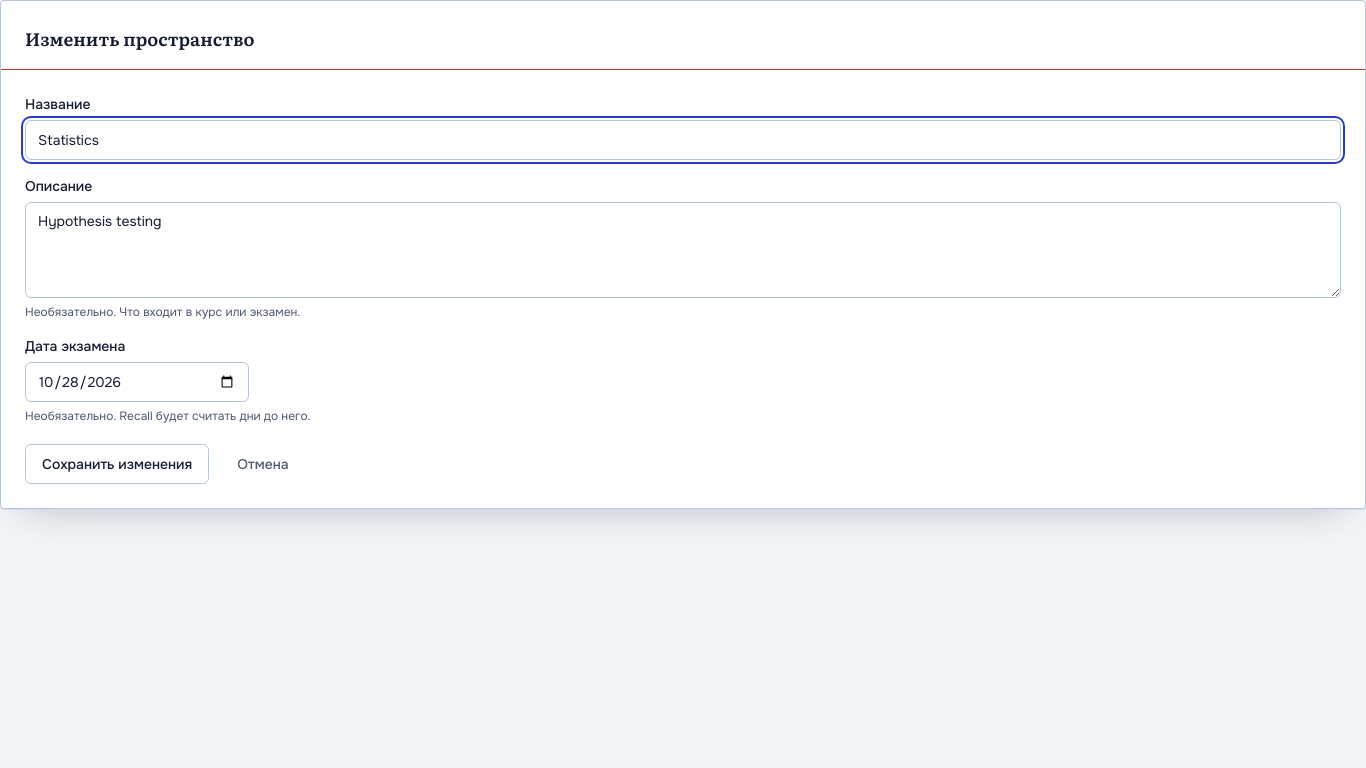
Test: EditWorkspaceForm › speaks Russian
Expected: the form named "Изменить пространство" is shown, [1,70,1365,508]
Expected: the button "Отмена" is shown, [221,444,305,484]
Step 1. Clear the field labelled "Название" → (683, 140), box [25,120,1341,160]
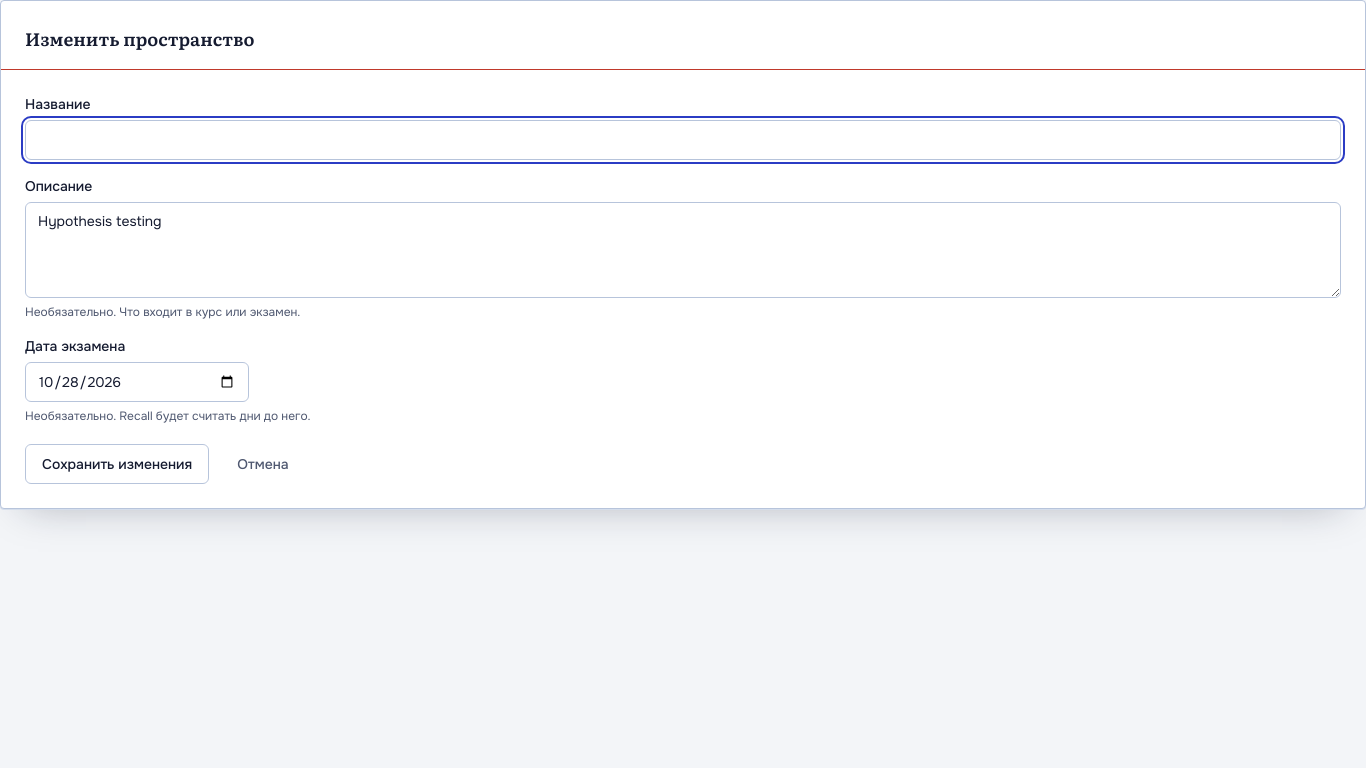
Step 2. Click the button "Сохранить изменения" → (117, 464), box [25,444,209,484]
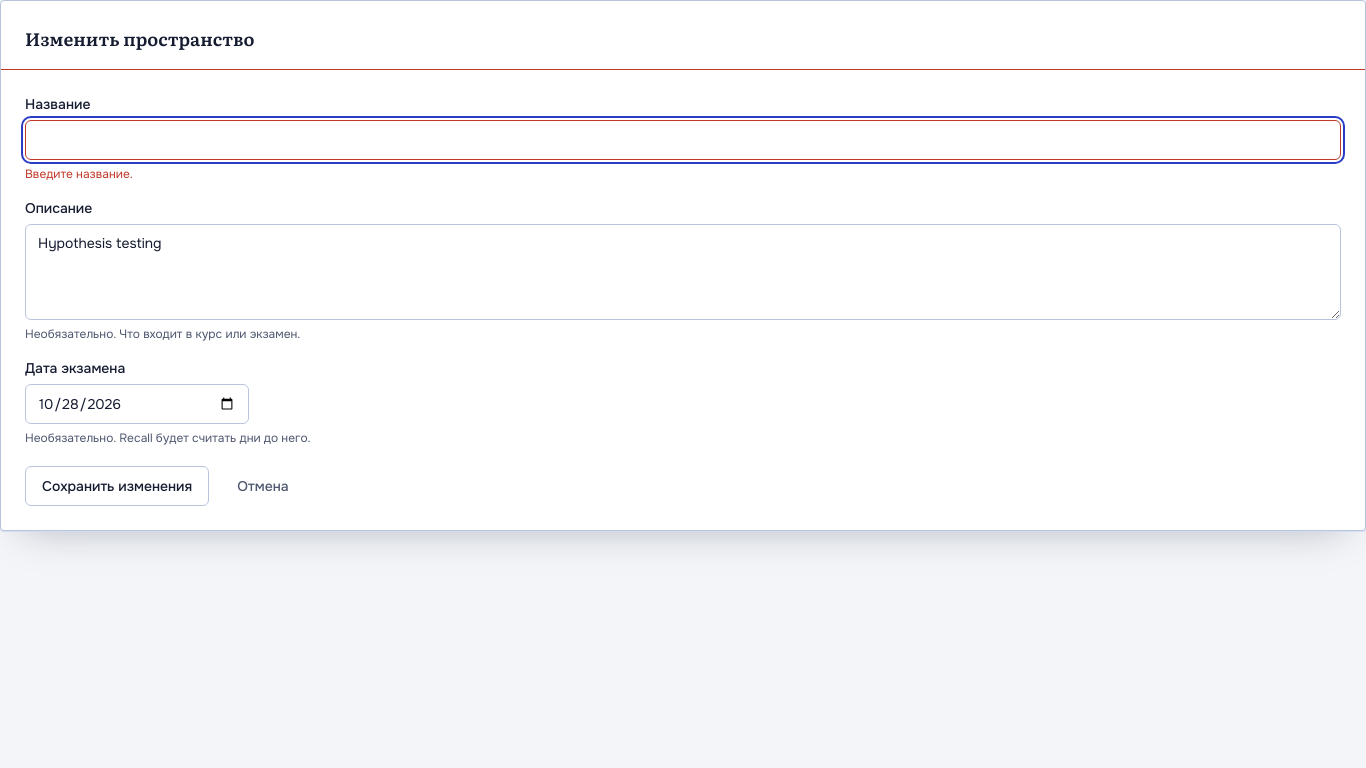
Expected: the text "Введите название." is shown, [25,166,133,182]
